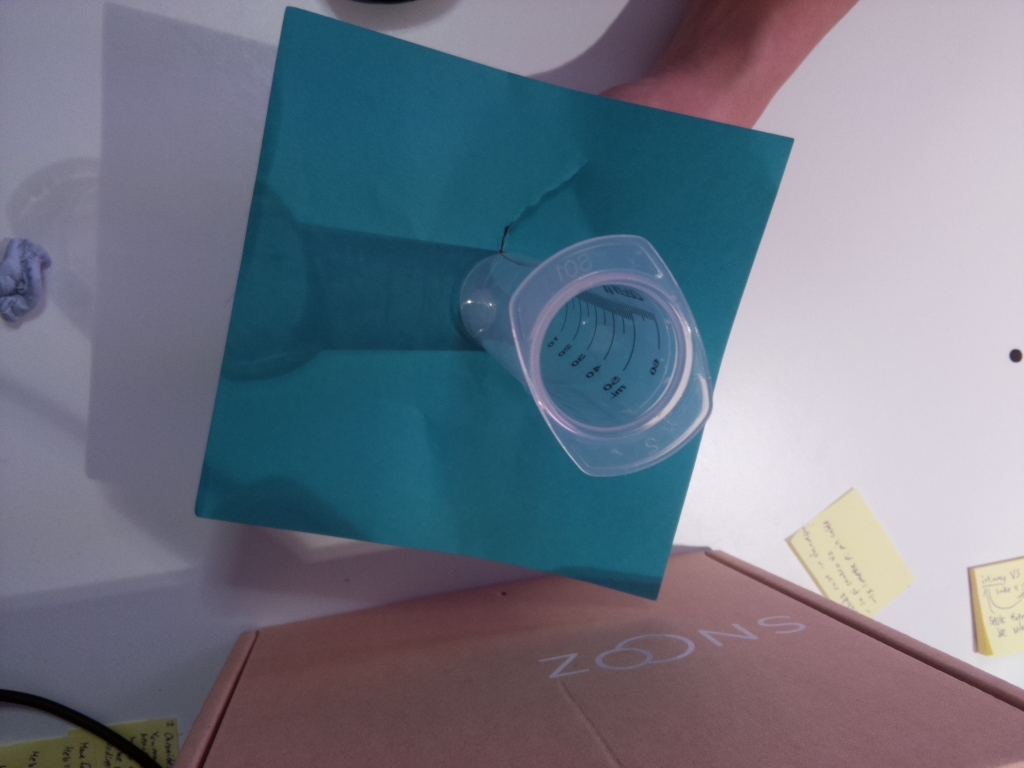clean: (509, 232, 716, 479)
